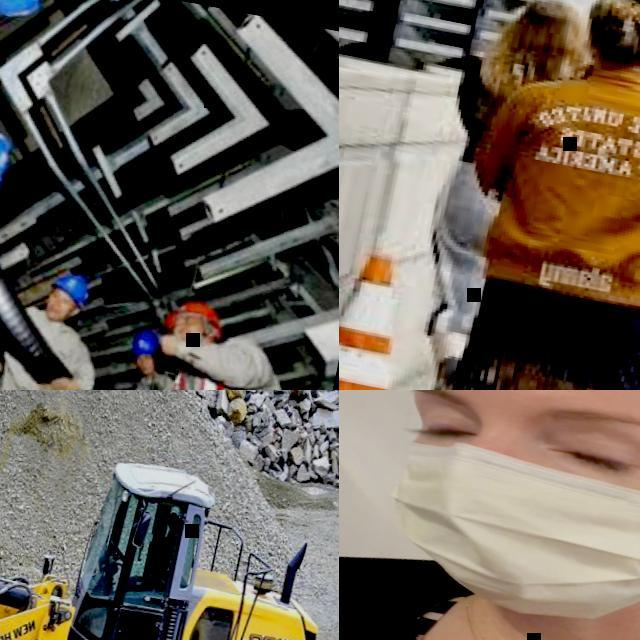helmet: (165, 297, 229, 338), (45, 270, 94, 311), (0, 0, 50, 24), (0, 121, 17, 183), (132, 331, 160, 361)
vest: (161, 364, 291, 390)
